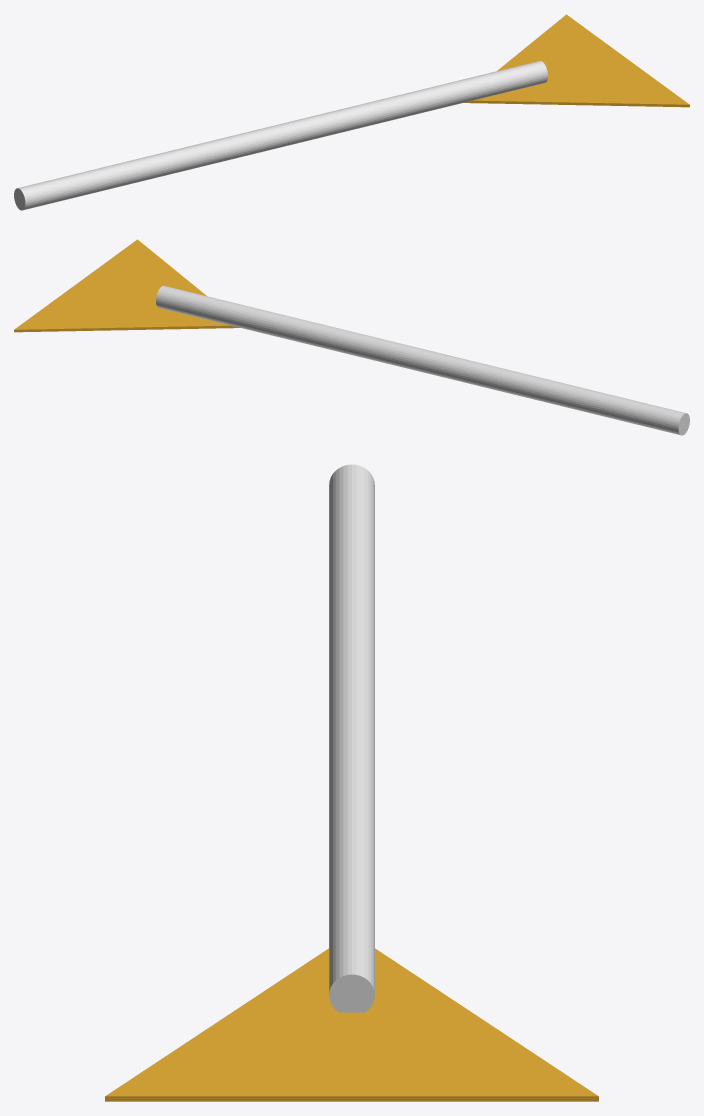
Rendered from Yield.fbx.
3 views of the same model, one above another, from view 1: azimuth 30°, elevation 25°; view 2: azimuth 150°, elevation 25°; view 3: azimuth 270°, elevation 25° (orthographic). The views are drawn at different scales.
Visible parts, largest first — view 1: Cylinder, Plane; view 2: Cylinder, Plane; view 3: Plane, Cylinder.
Boxes of the visible parts, x1,y1,x2,y2 form: Cylinder: (14, 60, 547, 210); Plane: (464, 14, 689, 107); Cylinder: (156, 285, 689, 435); Plane: (14, 239, 239, 332); Plane: (105, 948, 598, 1101); Cylinder: (329, 464, 374, 1012).
Bounding box in the file's own units: 569 × 19.28 × 200.
